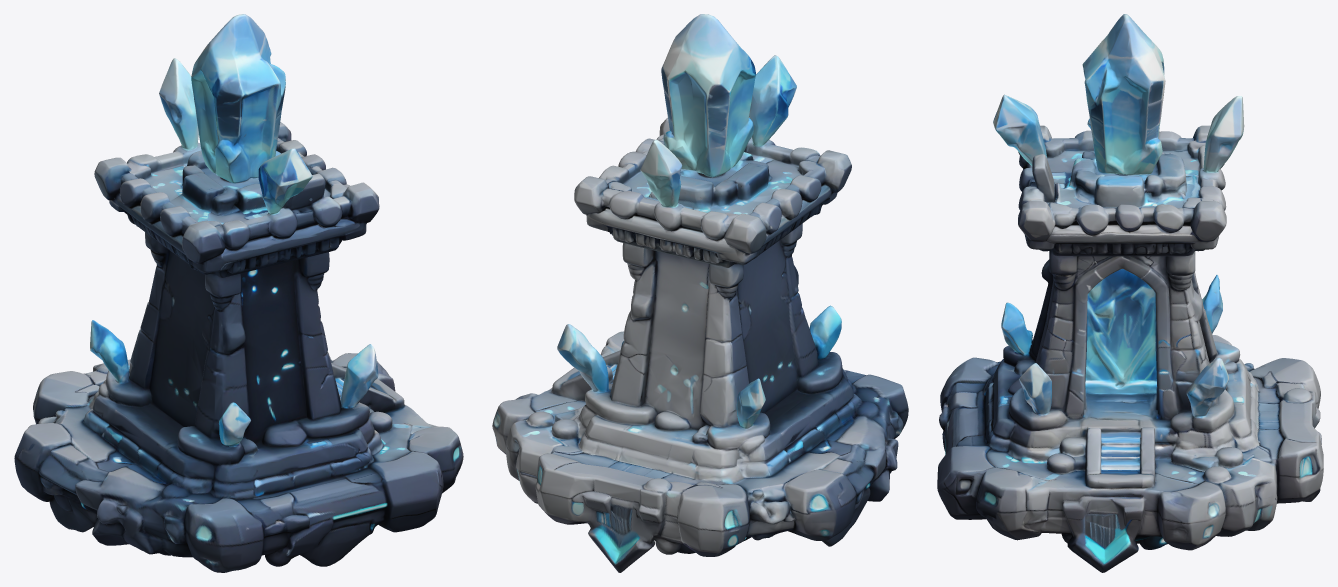
Rendered from prop-waypoint.glb.
3 renders of one model, left to right at view 1: azimuth 30°, elevation 25°; view 2: azimuth 150°, elevation 25°; view 3: azimuth 270°, elevation 25°, orthographic. The views are drawn at different scales.
Parts seen in each view (by area): view 1: tripo_node_14500fee-535c-4524-aa01-28453cf5d72a; view 2: tripo_node_14500fee-535c-4524-aa01-28453cf5d72a; view 3: tripo_node_14500fee-535c-4524-aa01-28453cf5d72a.
Part boxes in pixels (box(x1,y1,x2,y2)): tripo_node_14500fee-535c-4524-aa01-28453cf5d72a: box(14, 14, 463, 572); tripo_node_14500fee-535c-4524-aa01-28453cf5d72a: box(492, 14, 908, 572); tripo_node_14500fee-535c-4524-aa01-28453cf5d72a: box(937, 14, 1323, 572).
Bounding box in the file's own units: 2.13 × 3 × 2.01.
1 material, 1 textured.
